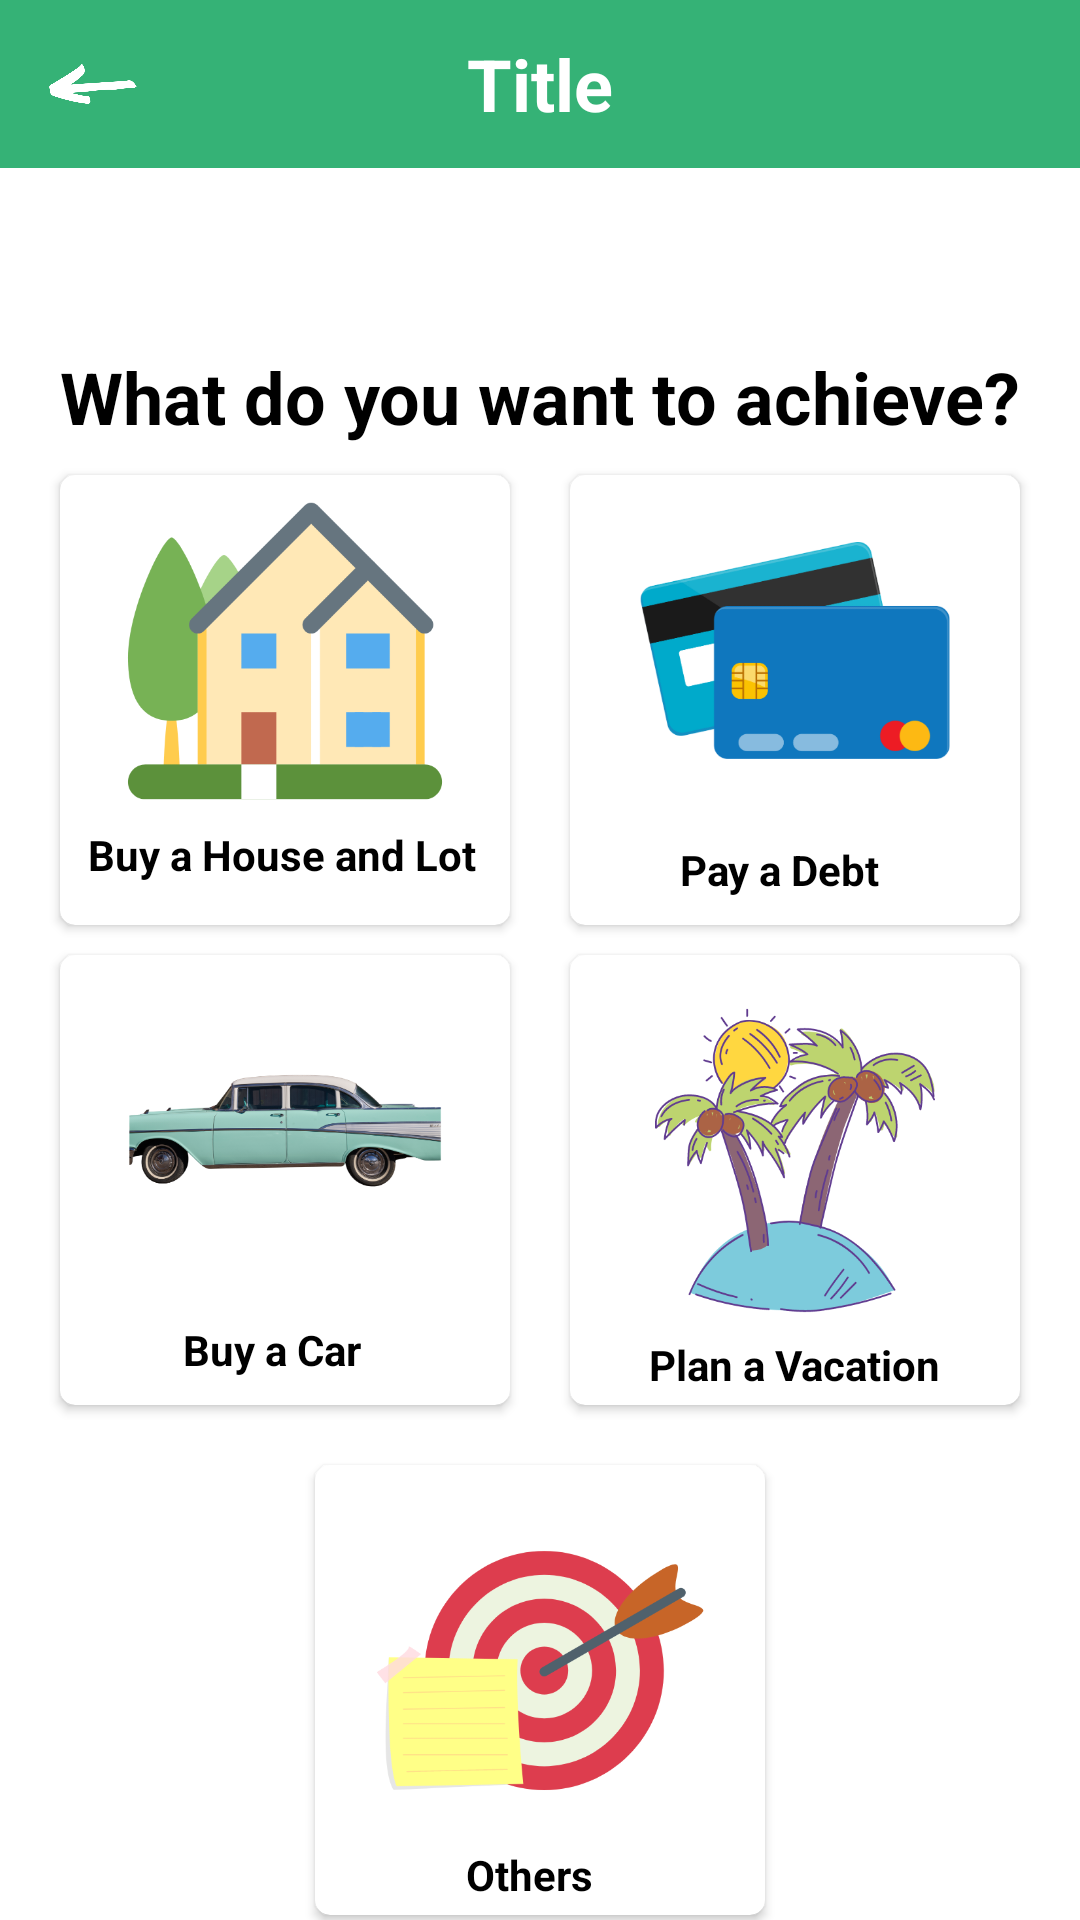

Named icons in this screenshot (1080x1920) and their centers, [x,y]:
back: [93,84]
credit: [795,650]
